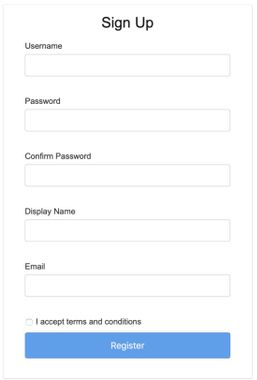_form_: (1, 1, 257, 371)
button: (24, 331, 232, 359)
checkbox: (24, 318, 33, 327)
checkbox_with_label: (22, 317, 141, 328)
field: (22, 161, 231, 187), (23, 107, 231, 133), (23, 217, 231, 243), (22, 53, 232, 77), (22, 273, 231, 297)
field_with_label: (21, 97, 233, 134), (22, 207, 233, 244), (20, 42, 234, 78), (20, 152, 233, 188), (20, 262, 233, 298)
